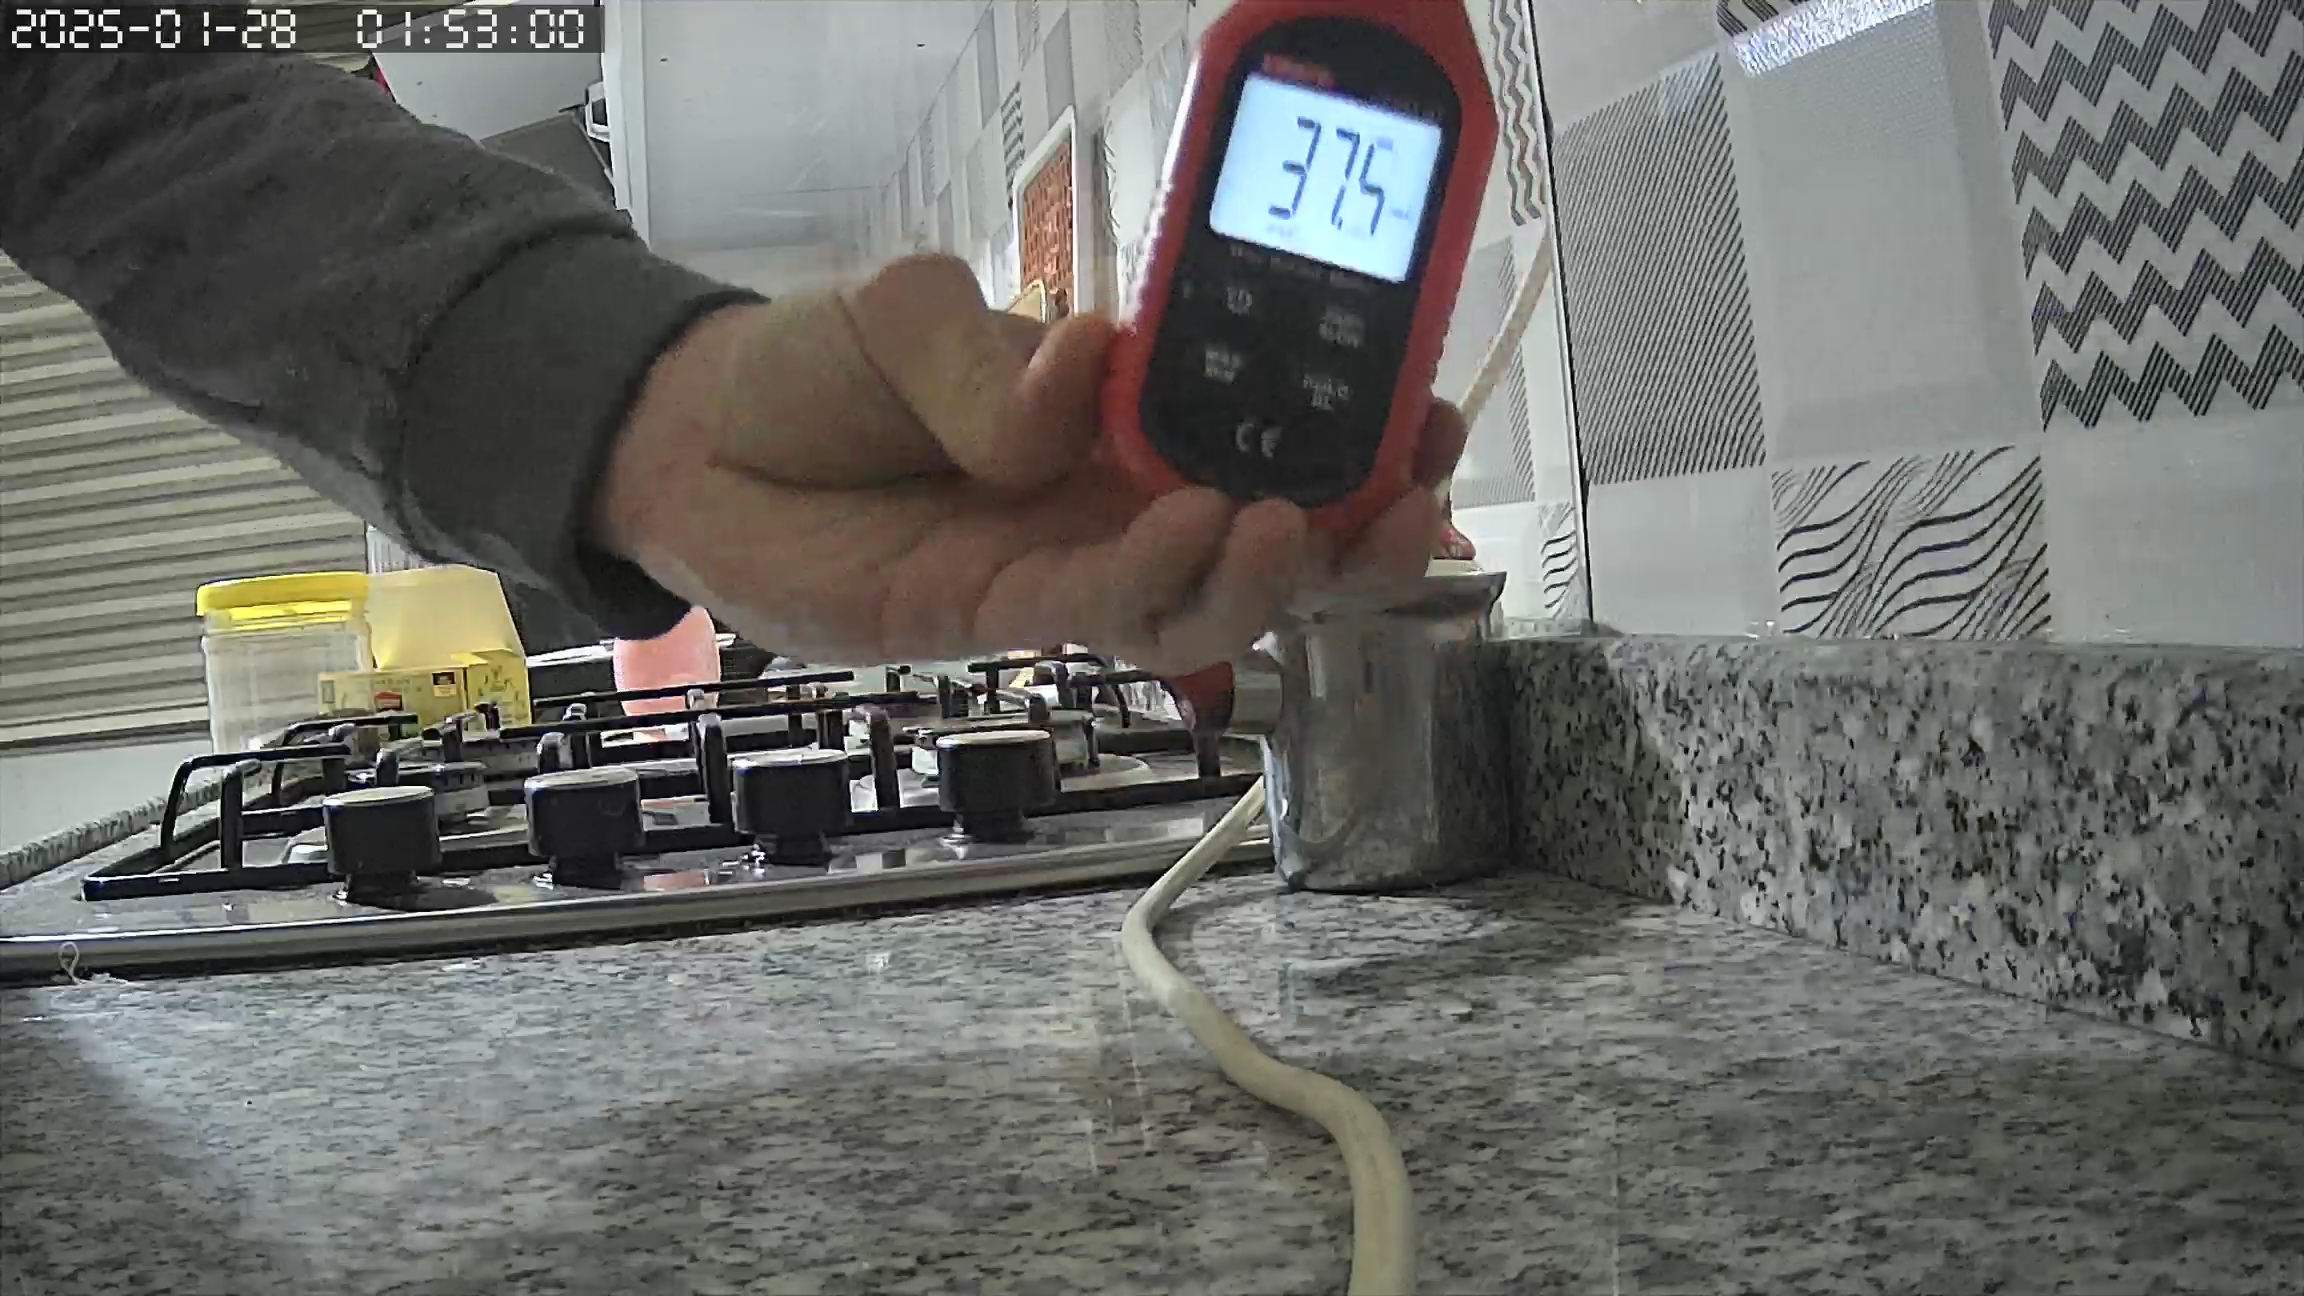screen: (1203, 73, 1446, 283)
